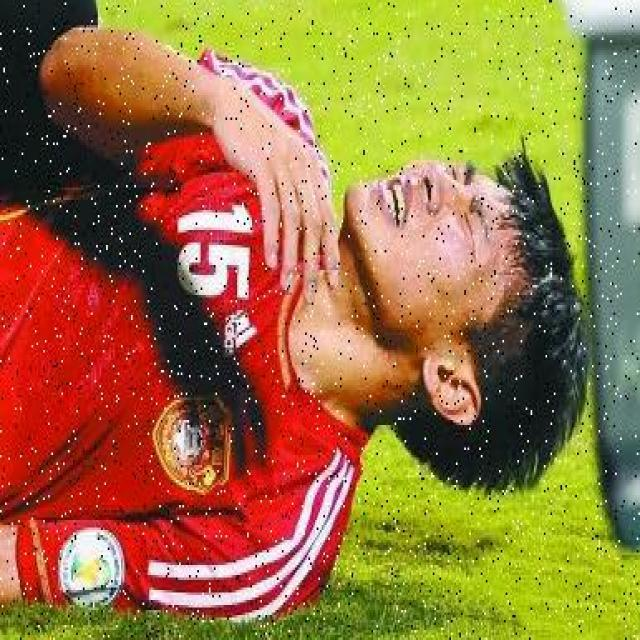fall: (0, 12, 565, 609)
